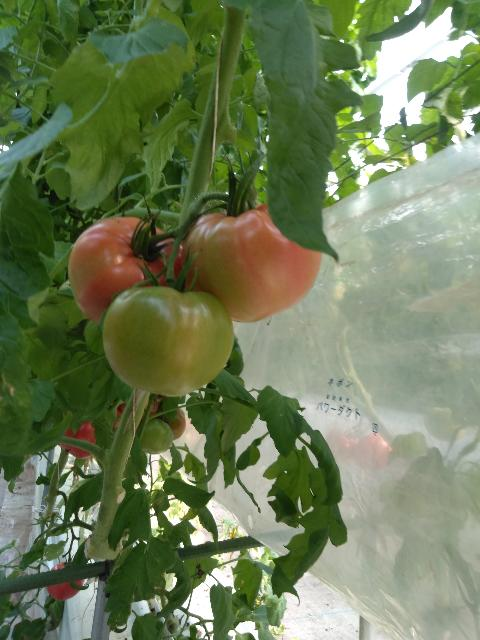b_fully_ripened: (46, 561, 86, 600), (60, 422, 96, 459)
b_green: (102, 287, 235, 398), (137, 419, 174, 455)
b_half_ripened: (181, 202, 323, 323), (67, 217, 193, 328), (164, 407, 186, 441)
